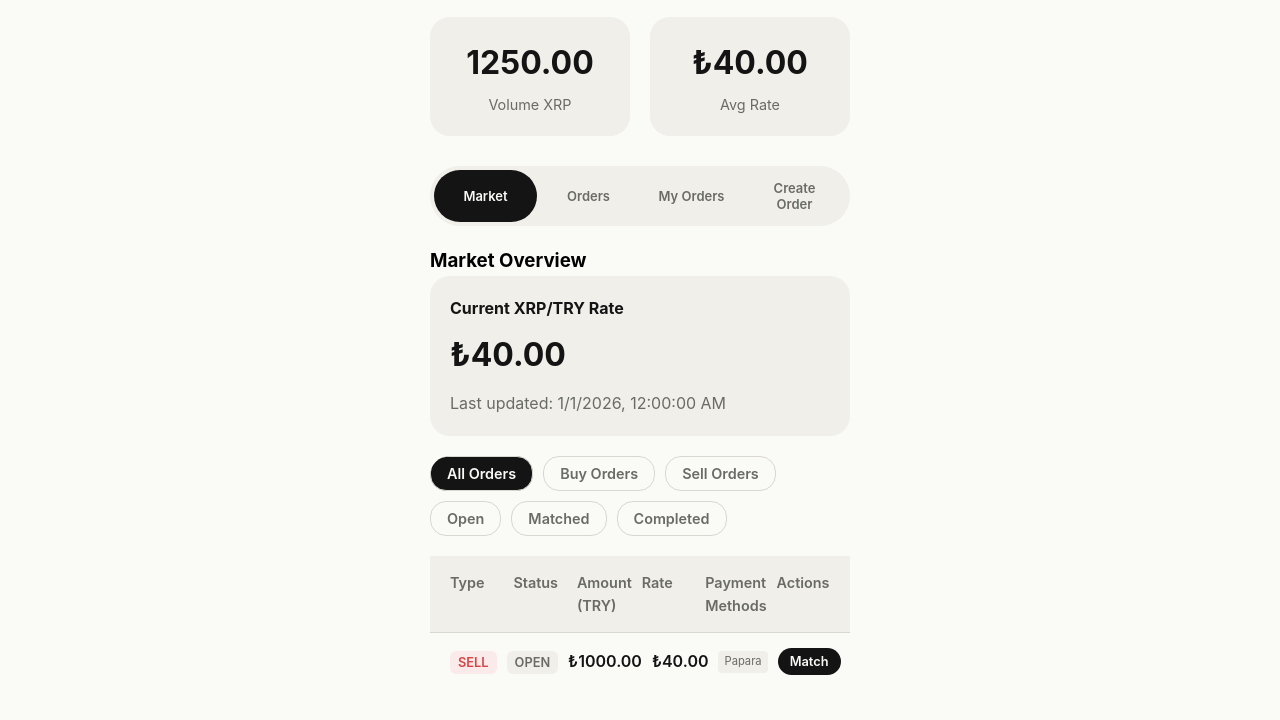
P2PExchange › order click opens OrderDetails
(page scrolled)
Click the text "₺1000.00" at [573, 661], box [568,651,642,671]
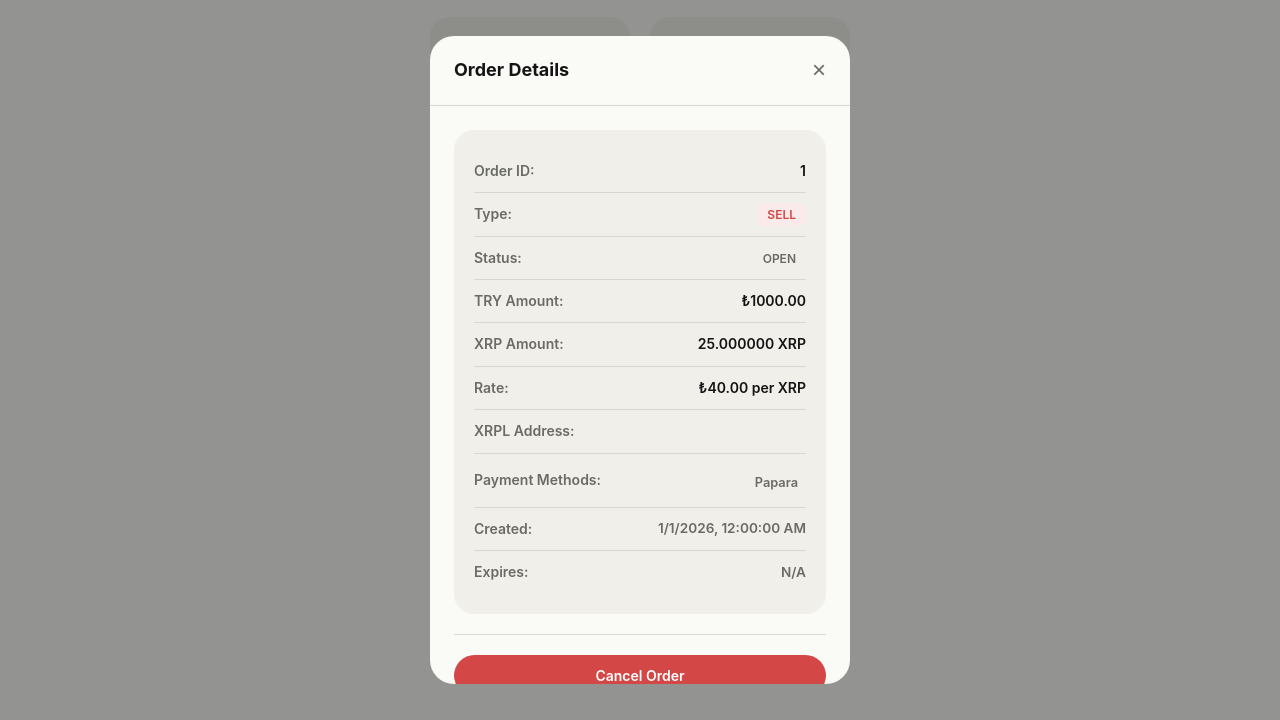
Expected: the heading "Order Details" is shown, [454,56,569,85]
close via ×
Click the button "×" at [819, 70], box [812,56,826,84]
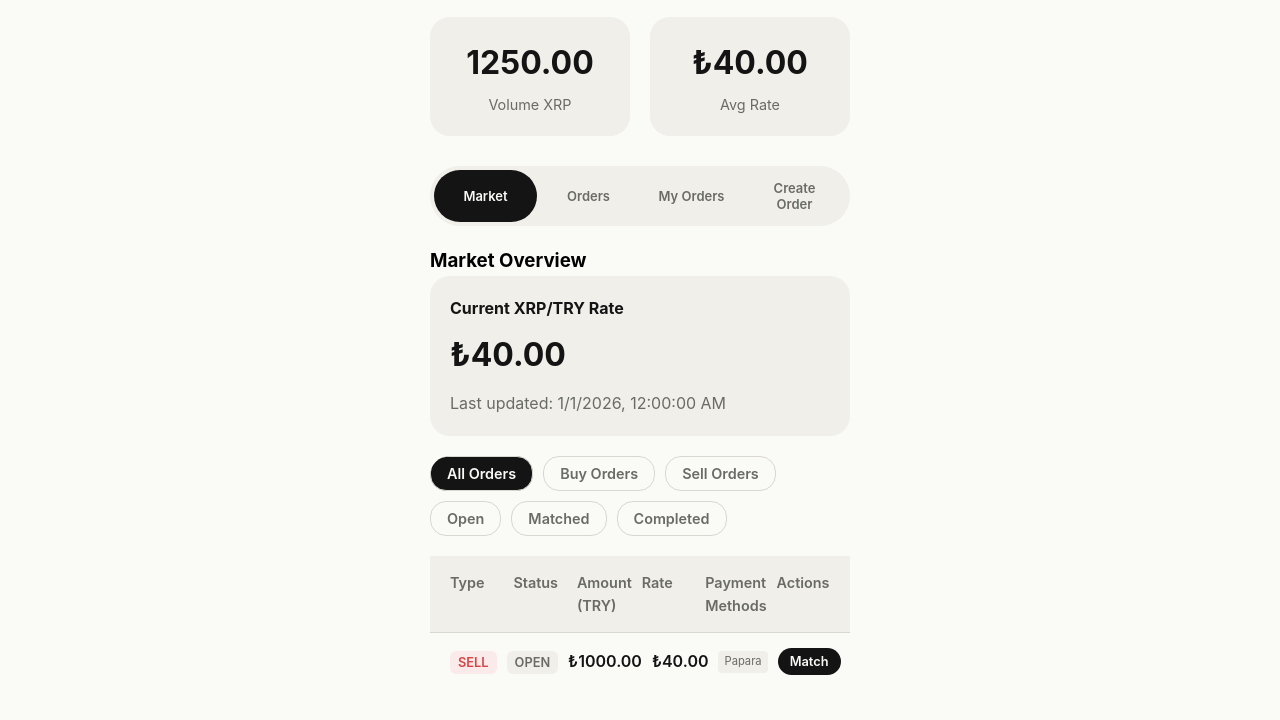
Expected: the heading "Order Details" is gone
